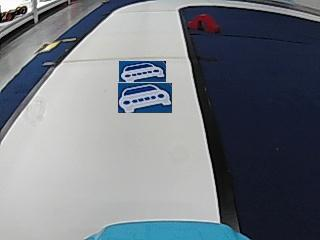bridge: (188, 14, 219, 32)
